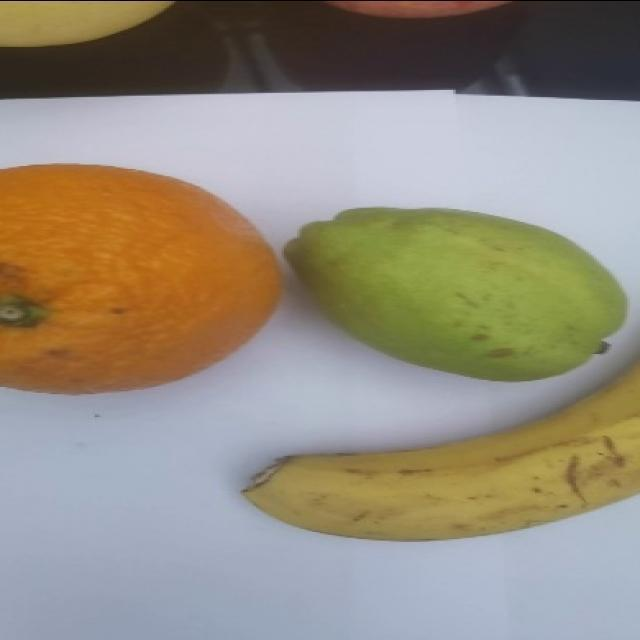Banana: (240, 359, 639, 541)
Orange: (0, 161, 282, 395)
